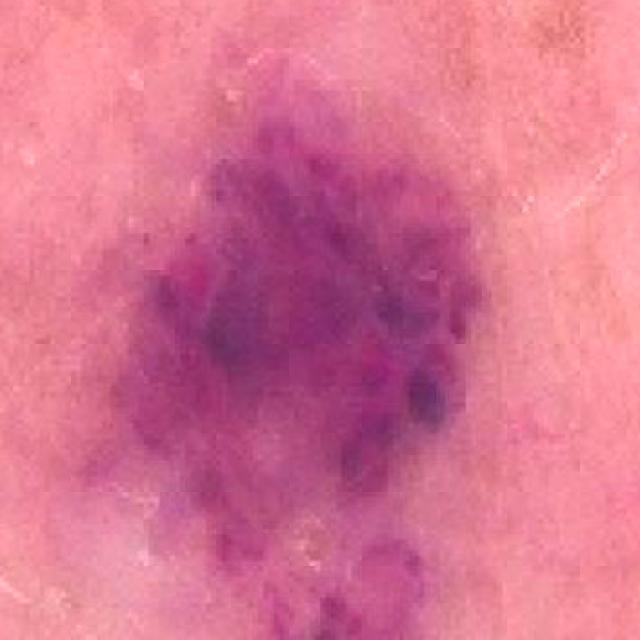VASC: (76, 16, 558, 640)
